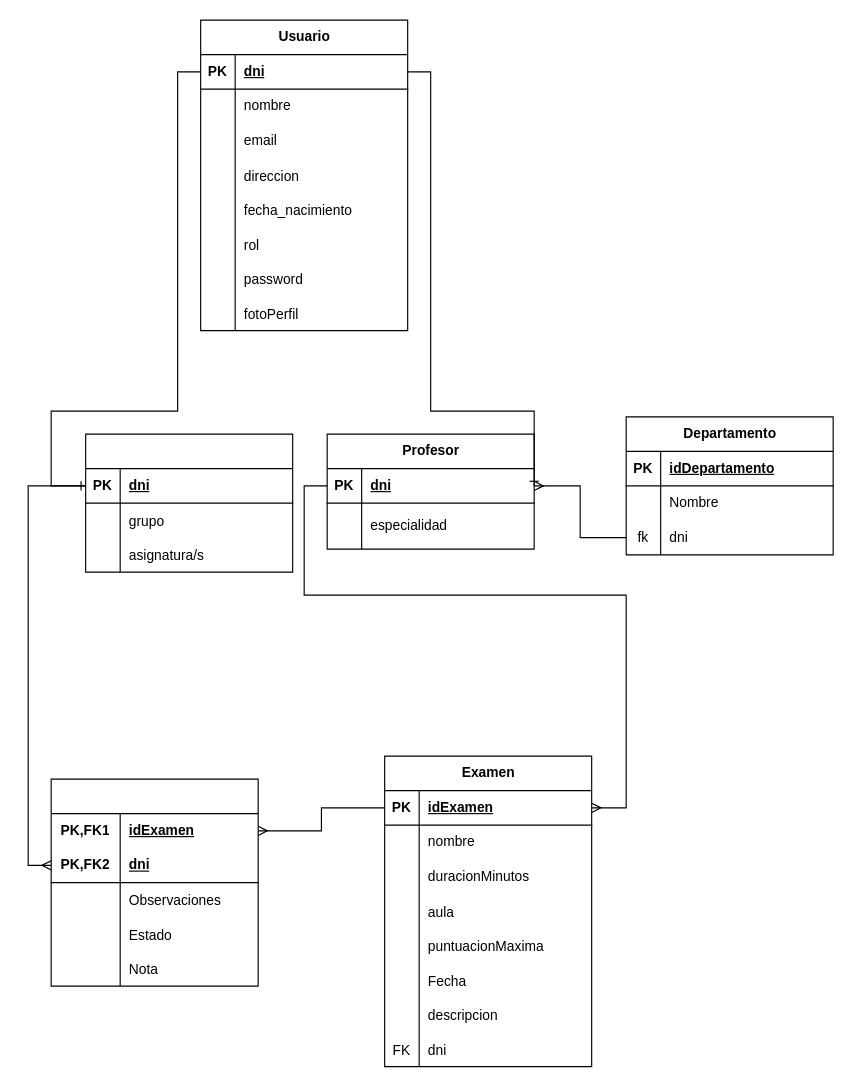
Image size: 853x1087. Some labels were removed from this diagram. The shapes that lost their labels are listed below. From the top down, each one's box as (x1, y1, x2, y2) in pixels, then its label:
(85, 433, 293, 572): Alumno
(50, 778, 258, 986): InscripciónConvocatoria
